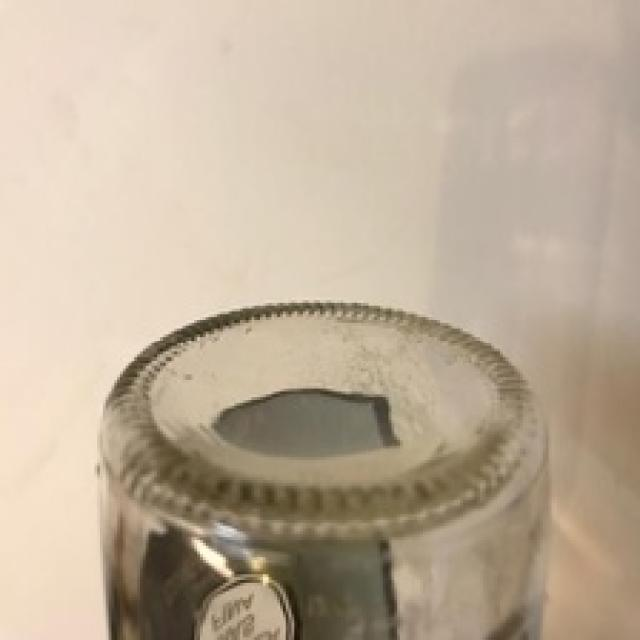Glass: (98, 300, 544, 640)
